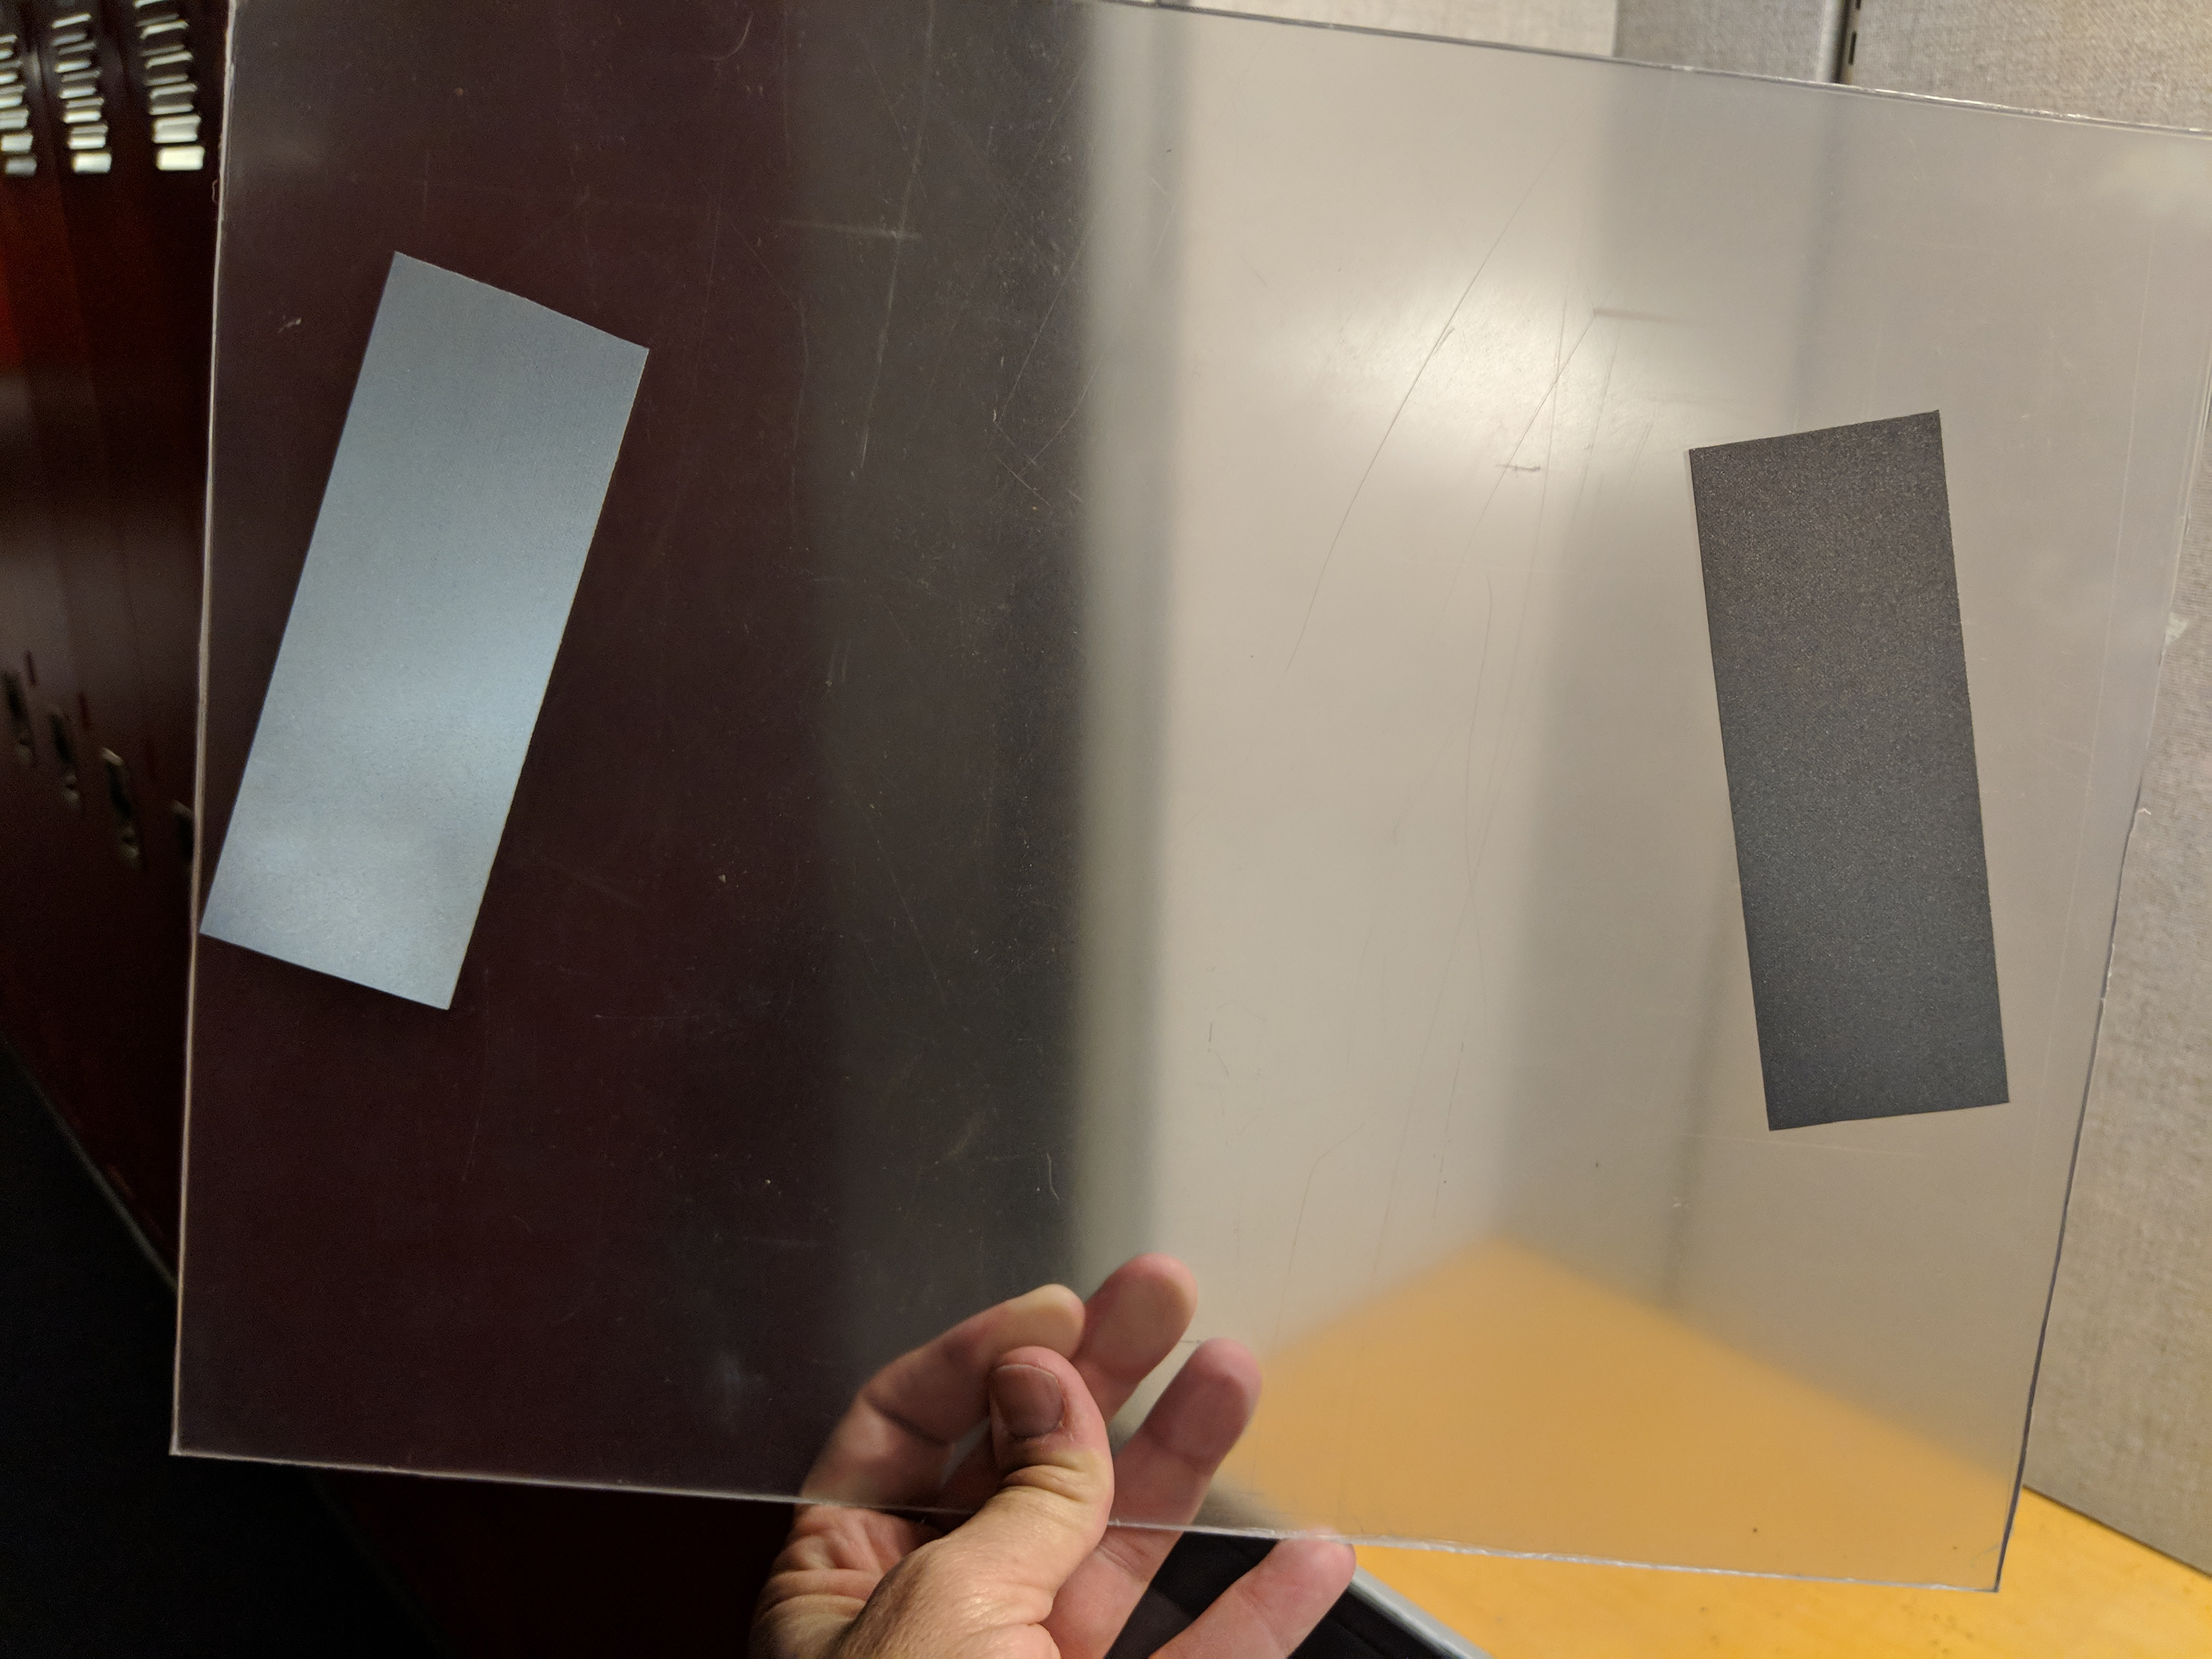vision_target: (197, 235, 2054, 1162)
